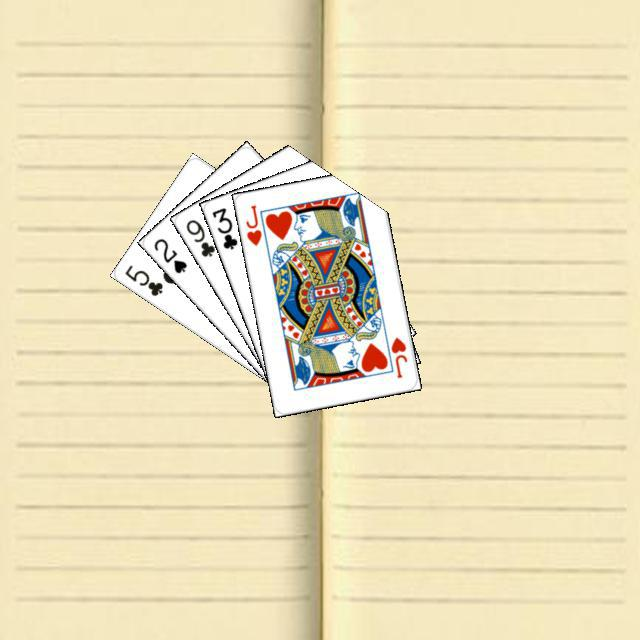2s: (149, 233, 189, 275)
3c: (207, 203, 239, 251)
5c: (120, 260, 165, 298)
9c: (181, 214, 217, 259)
Jh: (386, 332, 409, 380), (241, 200, 263, 247)
